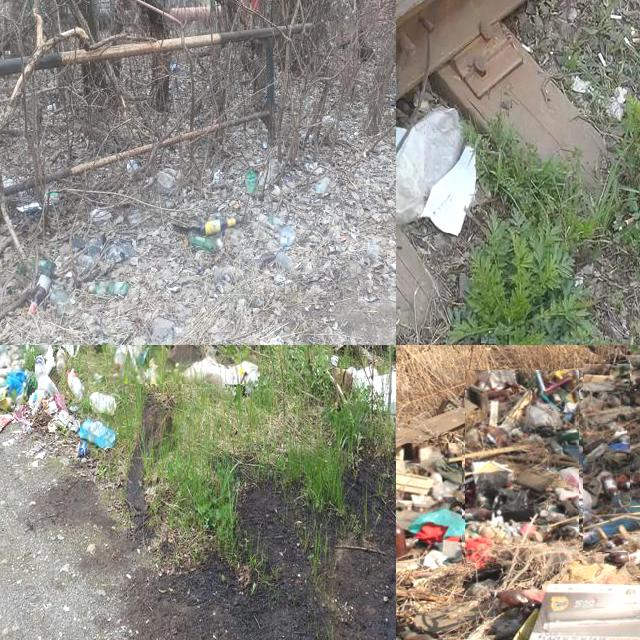lixeira: (466, 371, 581, 565), (583, 363, 639, 554), (396, 107, 476, 235), (396, 444, 465, 563), (89, 345, 263, 385), (542, 581, 639, 639), (35, 345, 88, 420), (485, 591, 546, 639), (22, 260, 55, 318), (189, 217, 244, 248), (81, 420, 117, 449), (89, 393, 118, 415), (87, 282, 128, 295), (278, 225, 298, 248), (126, 158, 142, 179), (246, 171, 260, 194), (316, 176, 331, 194), (0, 414, 14, 432)
